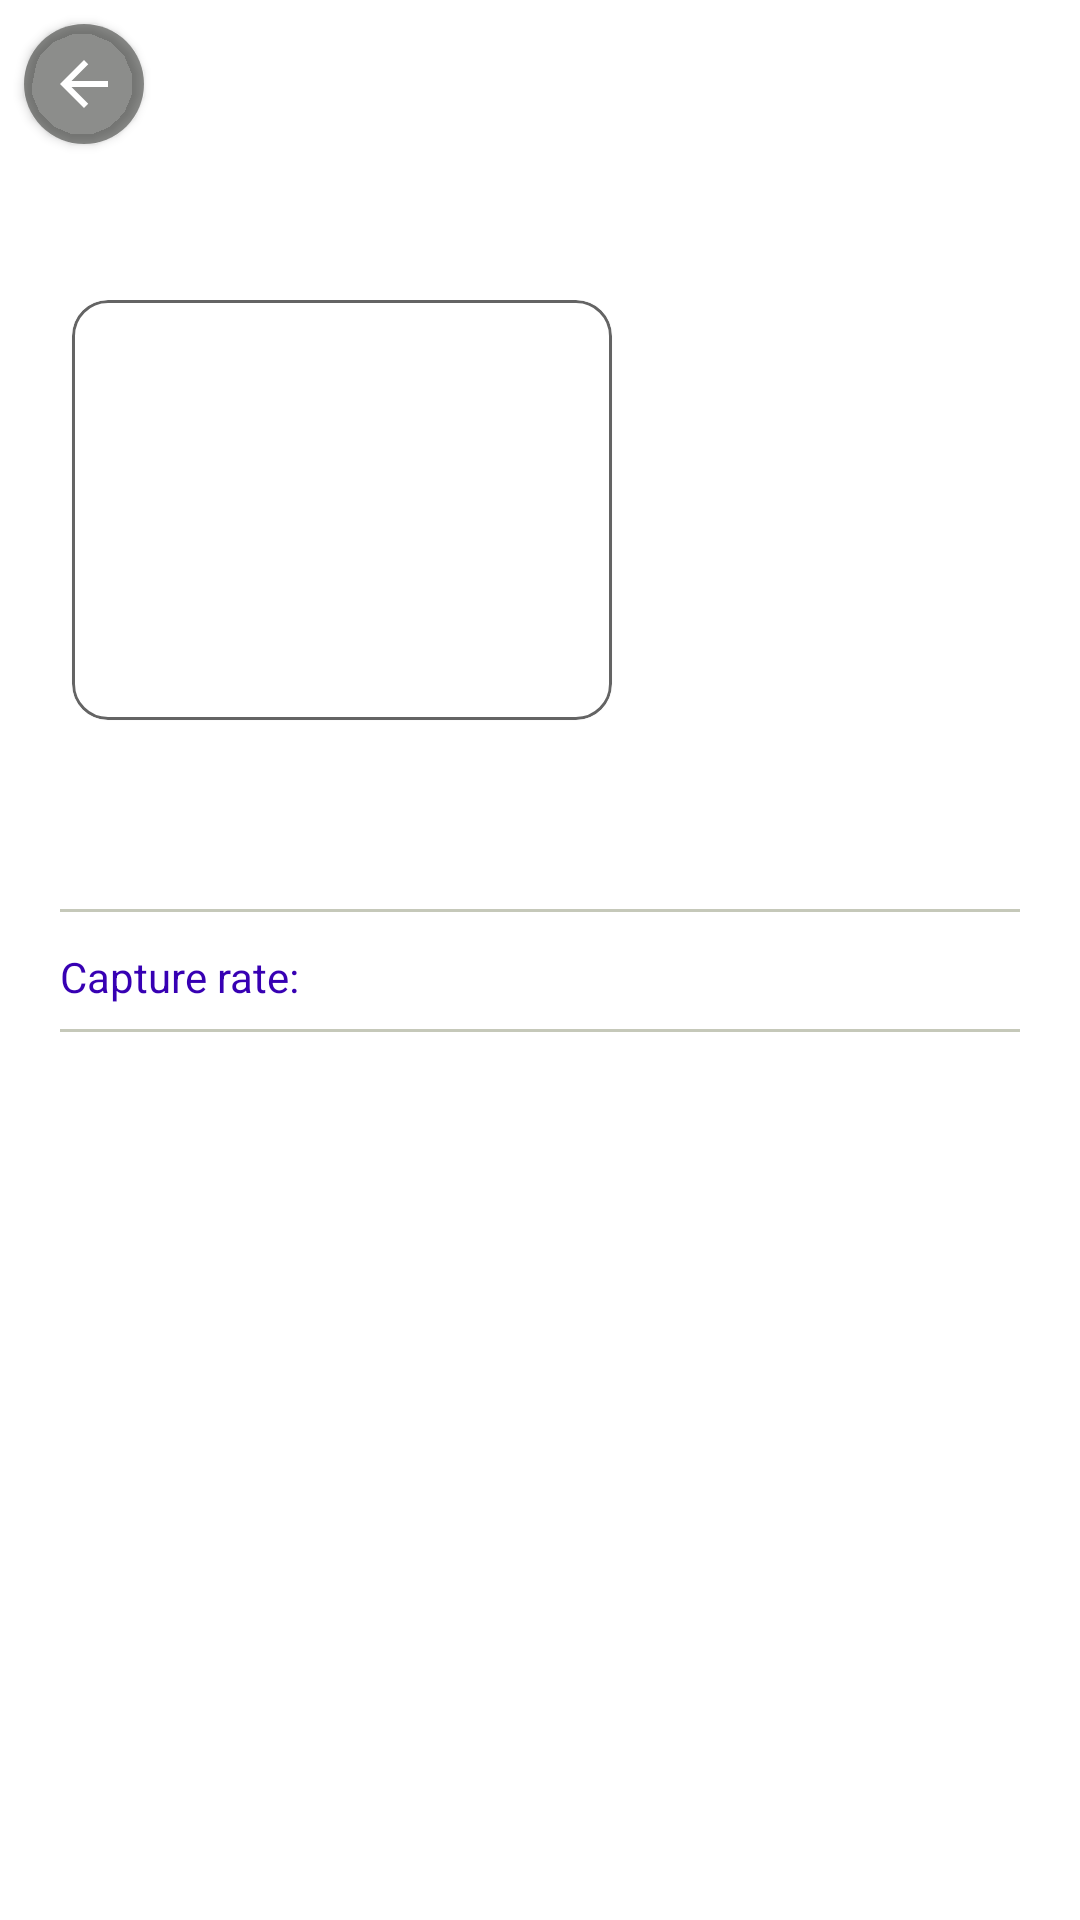

Named icons in this screenshot (1080×1920) and their centers, (x=x, y=y):
back: (x=84, y=84)
